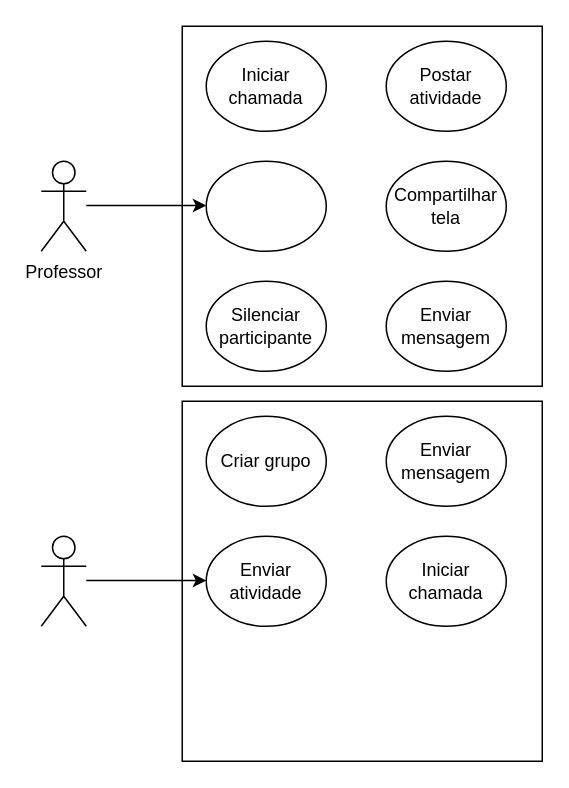
The diagram is 569 pixels wide and 788 high, and some of its shapes have lost their labels. The shapes that lost their labels are listed below. From the top down, each one's centre as x and y in pixels, then its label:
At point 265,205: "Gravar chamada".
At point 63,580: "Aluno".
